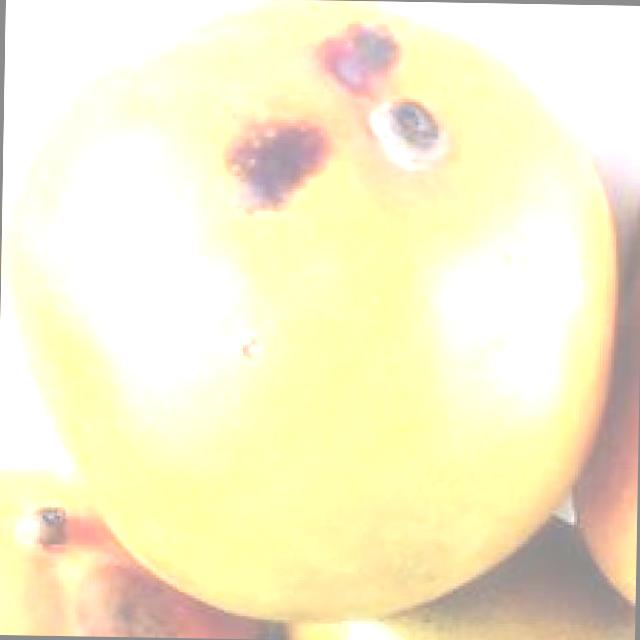Mango: (0, 13, 640, 628), (0, 456, 284, 639), (282, 506, 636, 640), (567, 248, 639, 610)
